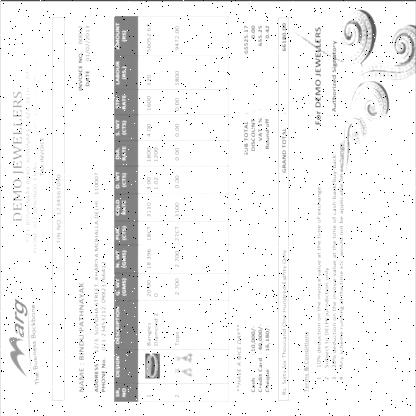Paragraph: (314, 139, 346, 382), (77, 171, 107, 394), (12, 58, 46, 254), (242, 22, 271, 157), (248, 321, 272, 395), (76, 23, 92, 92), (280, 20, 287, 174), (282, 247, 288, 396), (314, 24, 322, 126), (330, 38, 338, 113), (55, 172, 62, 245), (303, 328, 310, 392), (236, 322, 242, 392)
Table: (114, 14, 197, 400)
